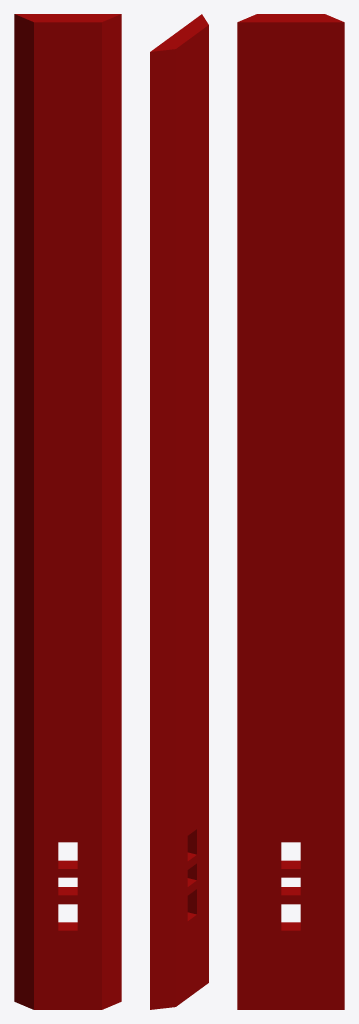
Rendered from original-10.obj.
The picture shows the model from 3 angles, left to right: view 1: azimuth 90°, elevation 25°; view 2: azimuth 150°, elevation 25°; view 3: azimuth 270°, elevation 25°; orthographic projection. The views are drawn at different scales.
Parts seen in each view (by area): view 1: Leg2_1/Leg2/mesh26/mesh26-geometry#mesh26-geometry; view 2: Leg2_1/Leg2/mesh26/mesh26-geometry#mesh26-geometry; view 3: Leg2_1/Leg2/mesh26/mesh26-geometry#mesh26-geometry.
Part boxes in pixels (x1,y1,x2,y2): Leg2_1/Leg2/mesh26/mesh26-geometry#mesh26-geometry: (14,14,121,1009); Leg2_1/Leg2/mesh26/mesh26-geometry#mesh26-geometry: (150,14,208,1009); Leg2_1/Leg2/mesh26/mesh26-geometry#mesh26-geometry: (237,14,344,1009).
Size of the model in its own units: 0.0182 by 1.02 by 0.1.
